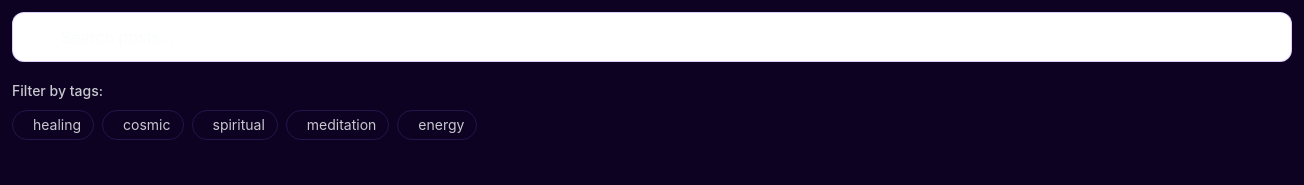
SearchFilter › Search Suggestions › closes suggestions on Escape key
Type "heal" into the field with placeholder "Search posts...".
click(652, 37); type("heal")  # box left=12, top=12, right=1292, bottom=62
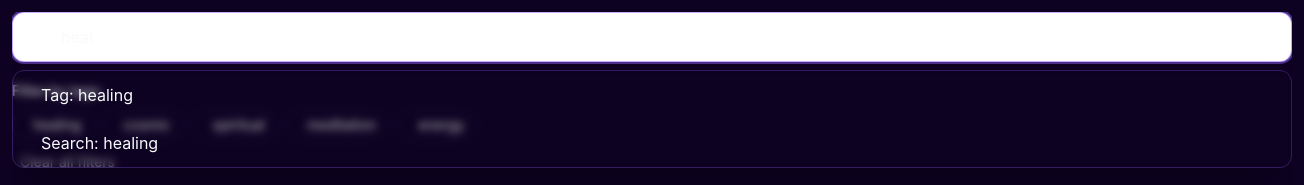
Result: the text "Tag: healing" is shown at left=41, top=83, right=133, bottom=107
Press Escape
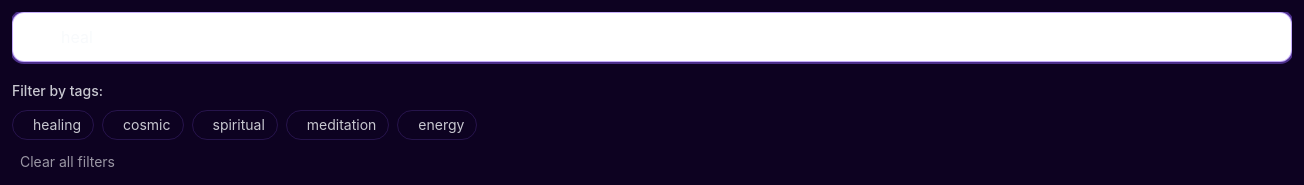
Result: the button "Tag: healing" is gone
